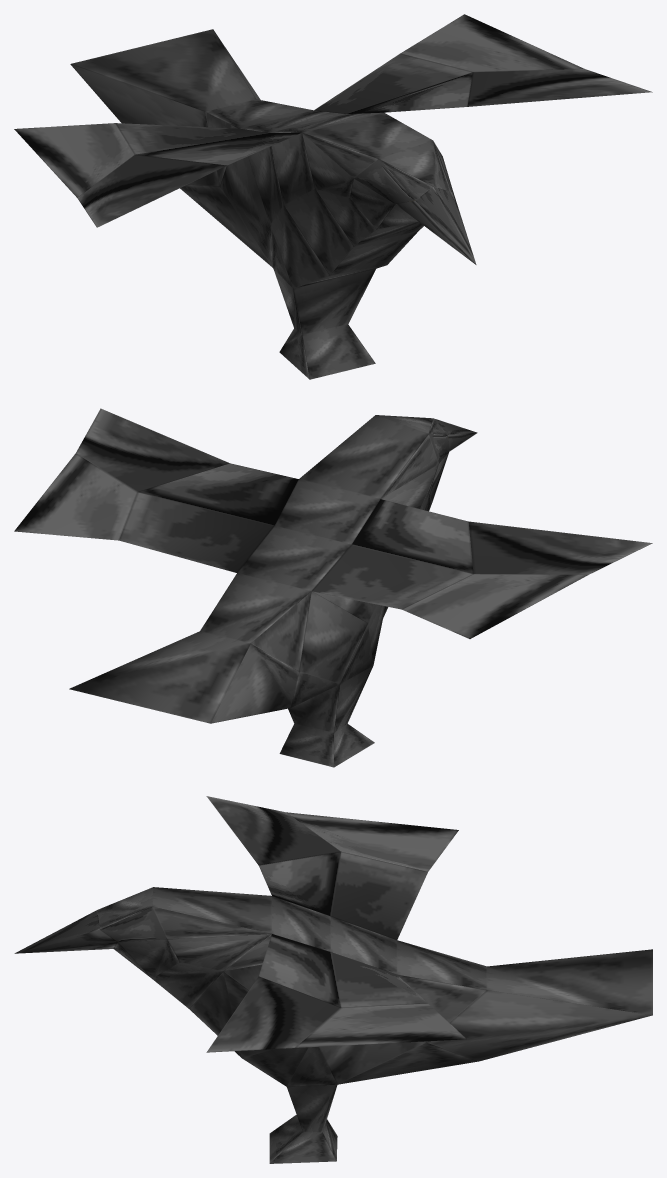
3 renders of one model, top to bottom at view 1: azimuth 30°, elevation 25°; view 2: azimuth 150°, elevation 25°; view 3: azimuth 270°, elevation 25°, orthographic. The views are drawn at different scales.
Visible parts, largest first — view 1: T1L4M001_21; view 2: T1L4M001_21; view 3: T1L4M001_21.
Boxes of the visible parts, x1,y1,x2,y2 form: T1L4M001_21: (14, 14, 652, 379); T1L4M001_21: (14, 408, 652, 767); T1L4M001_21: (14, 796, 652, 1163).
Bounding box in the file's own units: 0.8047 × 0.373 × 0.8467.
